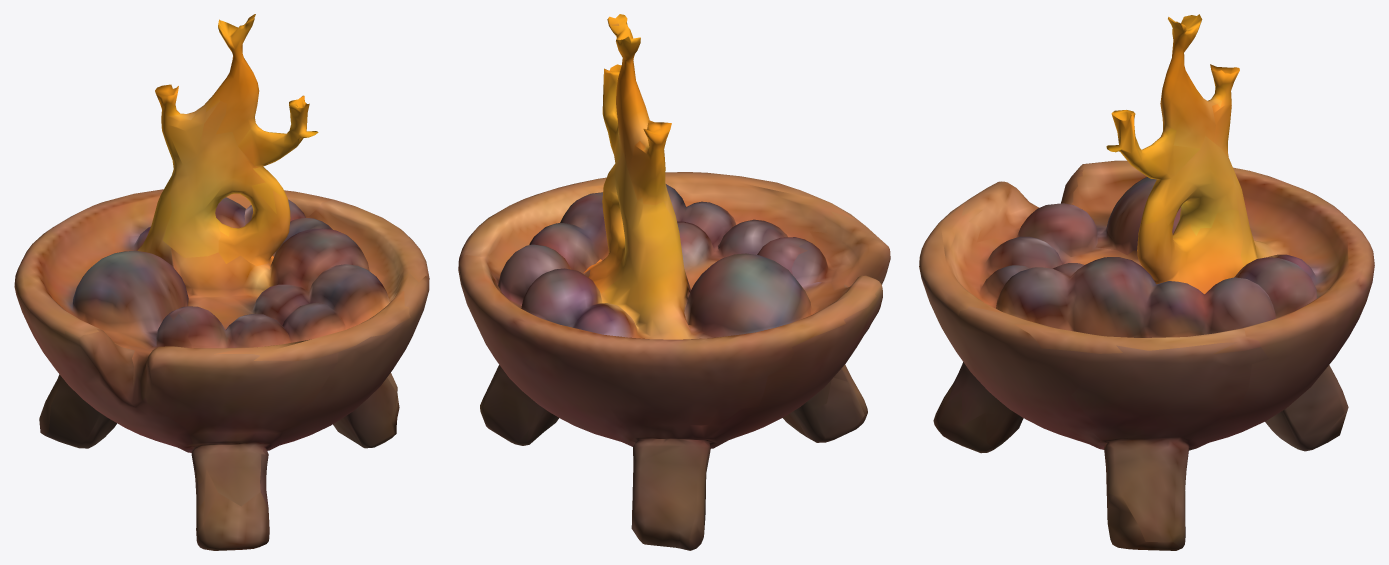
The model's file is c13_braseiro.glb.
3 views of the same model, side by side, from view 1: azimuth 30°, elevation 25°; view 2: azimuth 150°, elevation 25°; view 3: azimuth 270°, elevation 25° (orthographic). The views are drawn at different scales.
Visible parts, largest first — view 1: c13_braseiro; view 2: c13_braseiro; view 3: c13_braseiro.
Part boxes in pixels (x1,y1,x2,y2): c13_braseiro: (14, 14, 429, 550); c13_braseiro: (458, 14, 890, 550); c13_braseiro: (919, 14, 1374, 550).
Bounding box in the file's own units: 1.38 × 1.61 × 1.39.
1 material, 1 textured.
